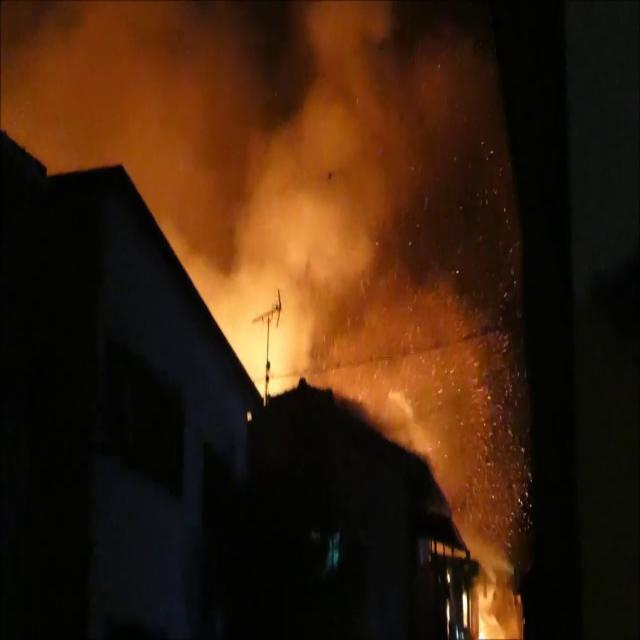Smoke: (11, 0, 491, 338), (258, 230, 517, 528)
